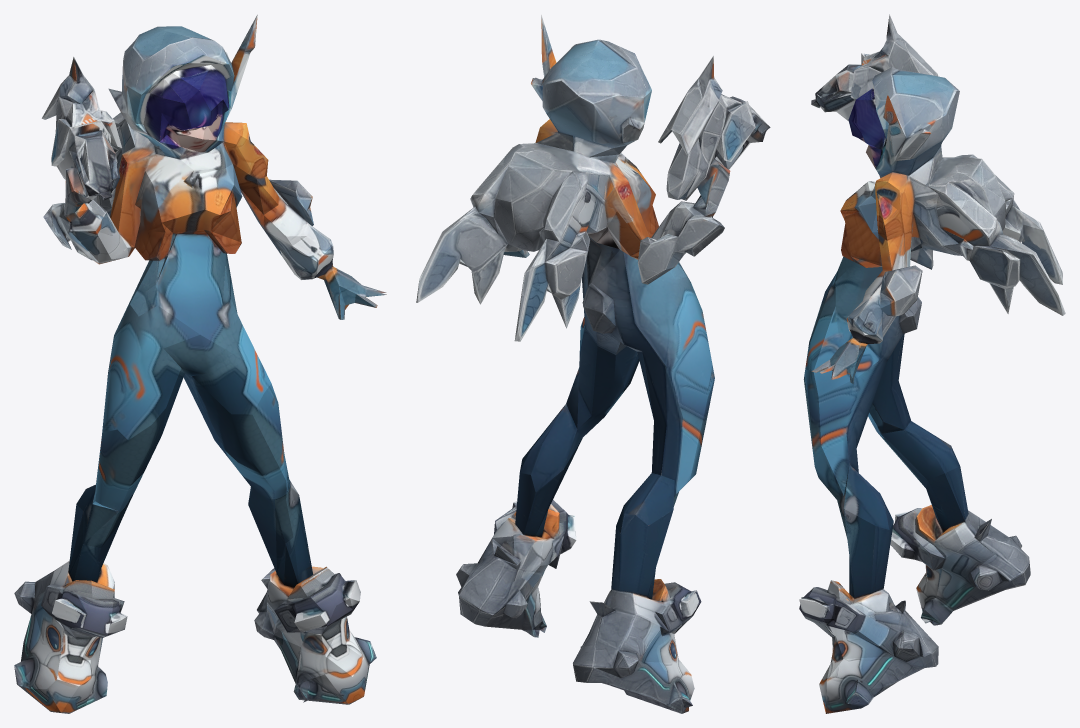
The model's file is juno.glb.
3 renders of one model, left to right at view 1: azimuth 30°, elevation 25°; view 2: azimuth 150°, elevation 25°; view 3: azimuth 270°, elevation 25°, orthographic. The views are drawn at different scales.
Size of the model in its own units: 0.9025 by 1.9 by 0.7687.
Materials: 1 (1 with a texture image).
